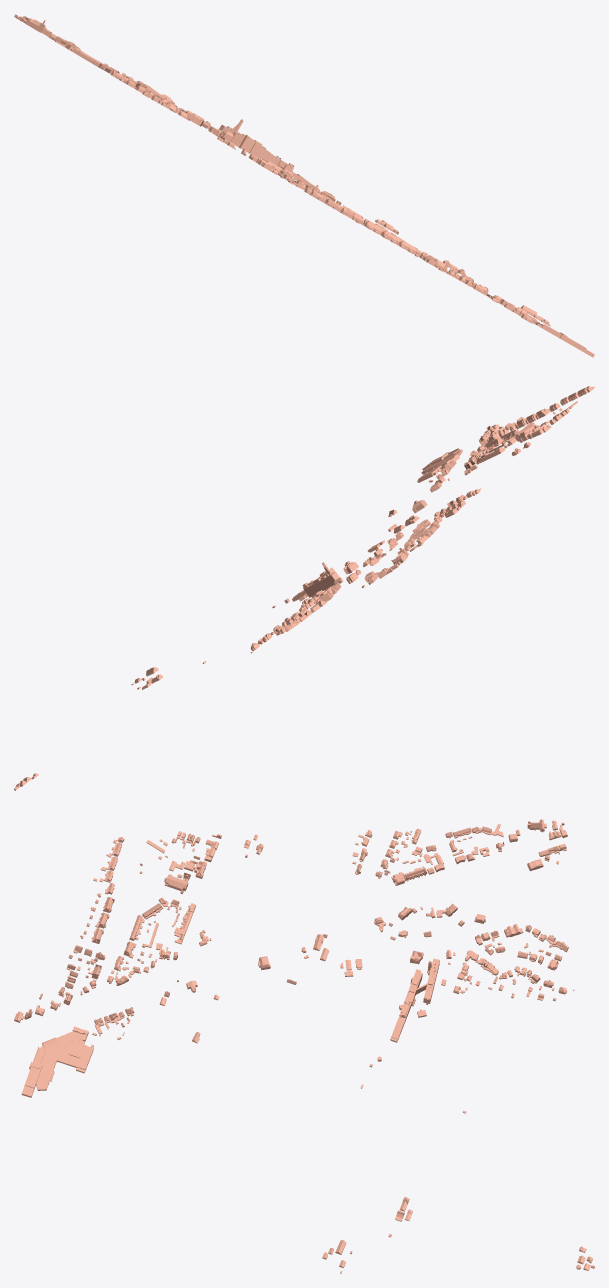
3 renders of one model, top to bottom at view 1: azimuth 30°, elevation 25°; view 2: azimuth 150°, elevation 25°; view 3: azimuth 270°, elevation 25°, orthographic. The views are drawn at different scales.
Bounding box in the file's own units: 810 × 619 × 1136.
